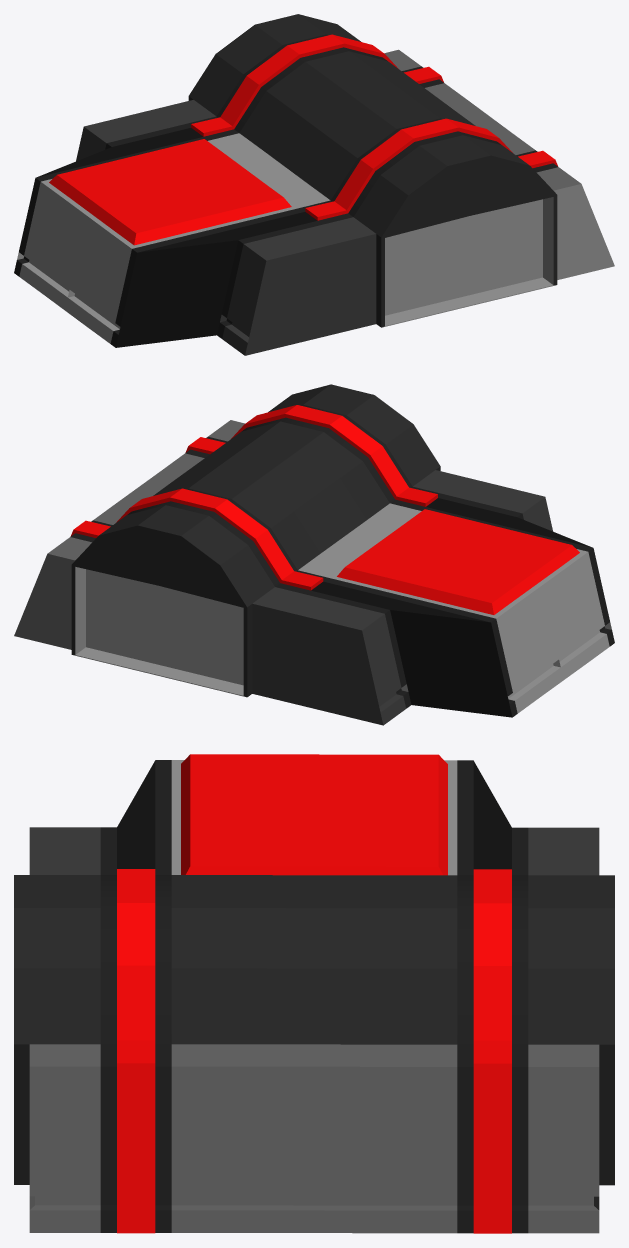
File: Air_Port_Robot.FBX
The picture shows the model from 3 angles, top to bottom: view 1: azimuth 30°, elevation 25°; view 2: azimuth 150°, elevation 25°; view 3: azimuth 270°, elevation 25°; orthographic projection. The views are drawn at different scales.
Visible parts, largest first — view 1: Cylinder001; view 2: Cylinder001; view 3: Cylinder001.
Part boxes in pixels (x1=…): Cylinder001: x1=14, y1=14, x2=614, y2=355; Cylinder001: x1=14, y1=384, x2=614, y2=725; Cylinder001: x1=14, y1=754, x2=614, y2=1233.
Bounding box in the file's own units: 412 × 127 × 298.
